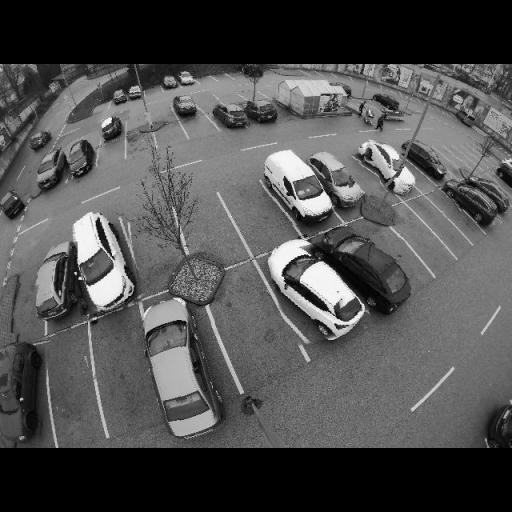busy: (140, 296, 222, 442), (272, 238, 368, 344), (64, 204, 140, 314), (334, 226, 410, 312), (262, 150, 334, 226), (0, 334, 47, 443), (32, 242, 77, 322), (359, 143, 417, 195), (315, 155, 367, 208), (446, 179, 504, 224), (405, 141, 448, 179), (62, 138, 98, 178), (32, 149, 67, 187), (488, 400, 512, 448), (213, 102, 251, 130), (244, 96, 280, 125), (96, 112, 124, 140), (170, 95, 201, 118), (372, 91, 404, 112), (28, 128, 54, 152), (498, 162, 512, 192), (112, 88, 128, 106), (126, 84, 144, 100), (176, 71, 195, 86), (161, 74, 178, 90)
free: (220, 292, 274, 340), (50, 358, 96, 410), (96, 340, 144, 388), (132, 228, 178, 268), (14, 283, 44, 322), (399, 153, 431, 189), (197, 222, 235, 252), (346, 161, 380, 191), (236, 201, 274, 226), (376, 235, 408, 264), (97, 144, 124, 165), (128, 134, 155, 154), (407, 227, 433, 247), (442, 198, 464, 220), (126, 113, 150, 130), (188, 119, 212, 135), (162, 129, 184, 145), (241, 88, 260, 106), (427, 213, 448, 229), (198, 96, 218, 110), (219, 92, 239, 106), (154, 108, 174, 121), (452, 151, 466, 166), (438, 156, 454, 168), (230, 72, 245, 82), (200, 76, 213, 86), (467, 150, 480, 160), (214, 75, 230, 83), (148, 86, 160, 95)
